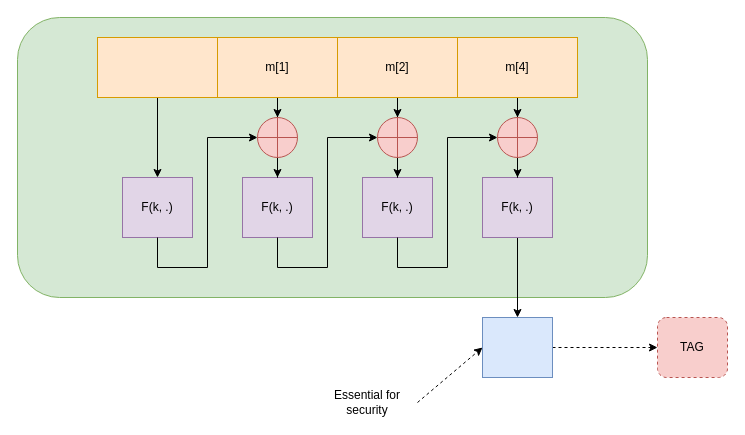
Some shapes in this 745 by 435 pixel diagram are drawn without their labels. The centre of each missing label's shape, as x and y in pixels:
"F(k1, .)" belongs at [517,347].
"m[0]" belongs at [157,67].
